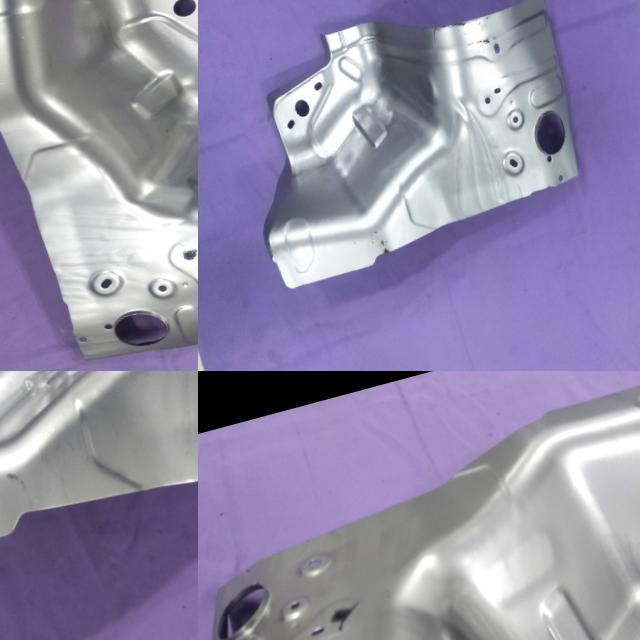Defect: (422, 22, 442, 50)
Healthy: (198, 371, 640, 640), (0, 0, 198, 371), (0, 371, 198, 588)
rust: (348, 216, 408, 272), (436, 7, 496, 37), (462, 31, 497, 56)
